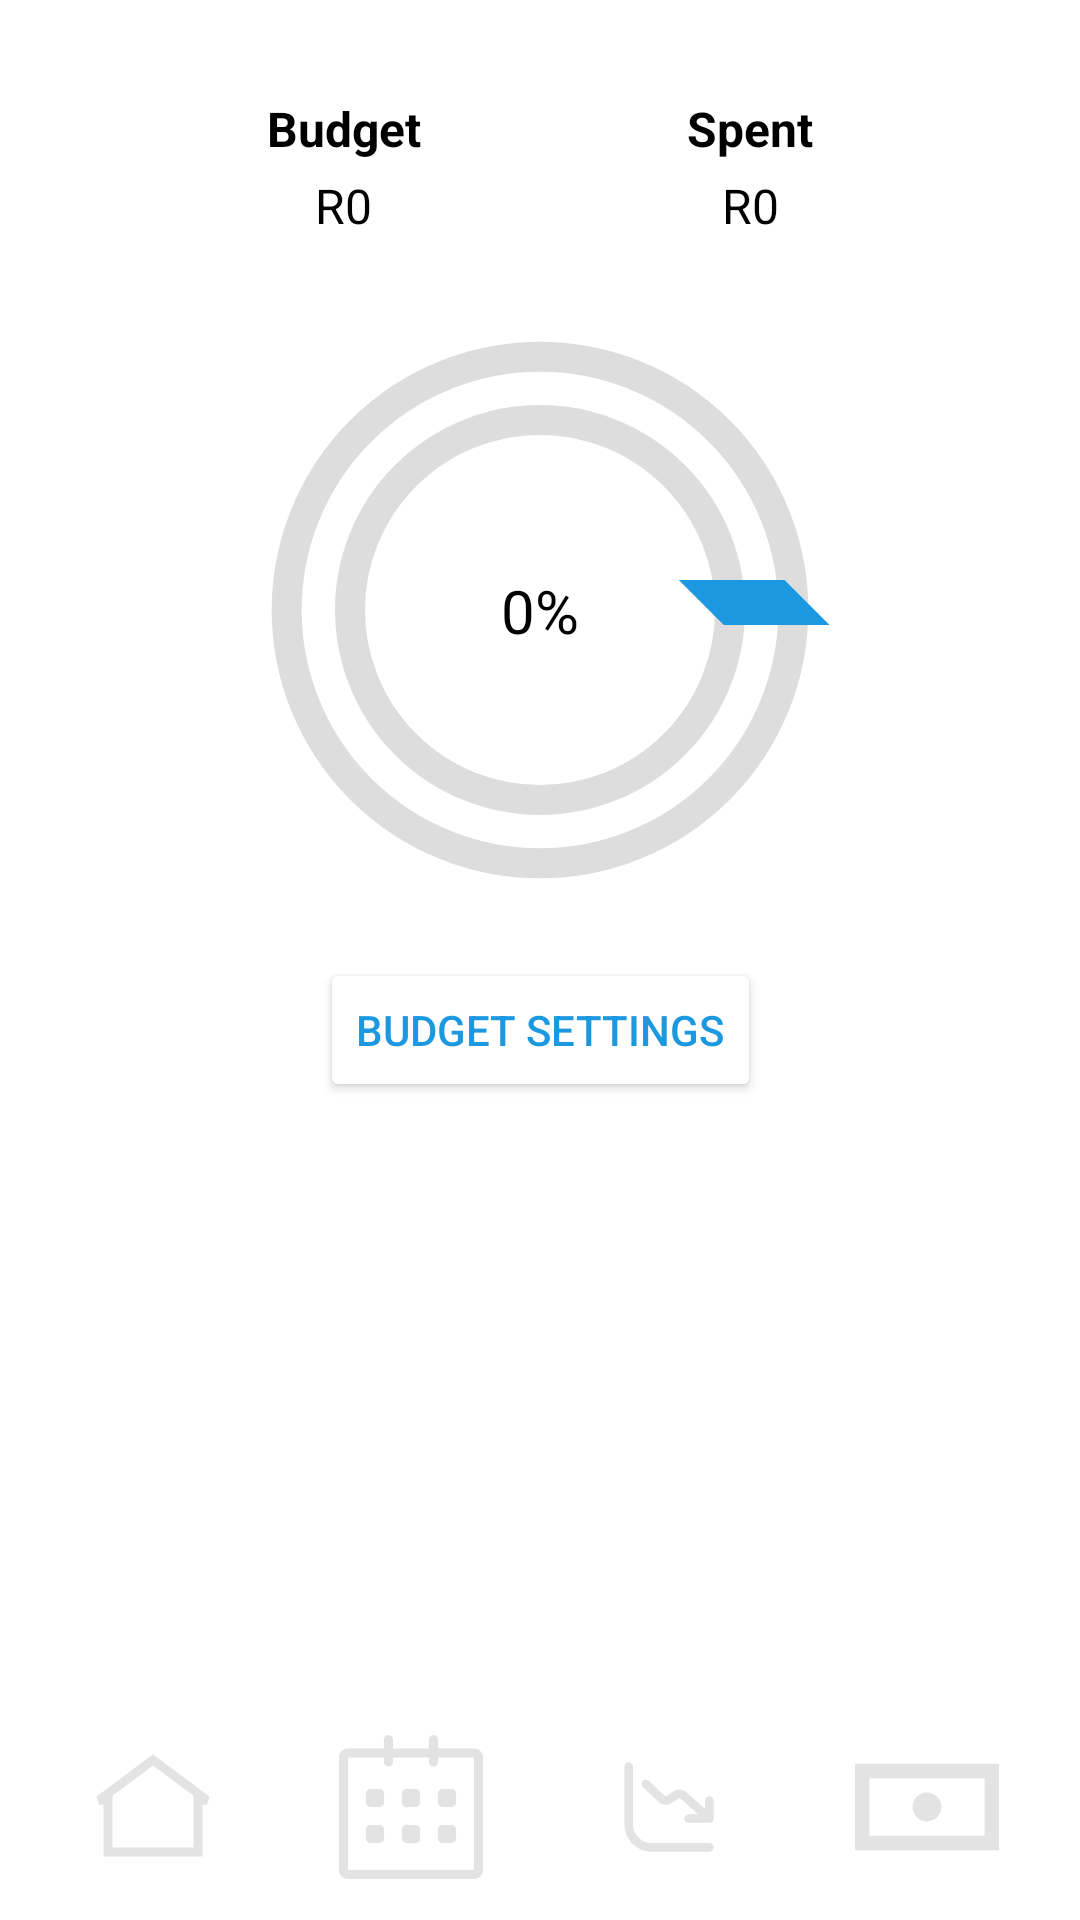

Screen size 1080px×1920px. Icon name, then its center in pixels as (x=x, y=y):
Calendar: (x=411, y=1807)
Home: (x=153, y=1805)
